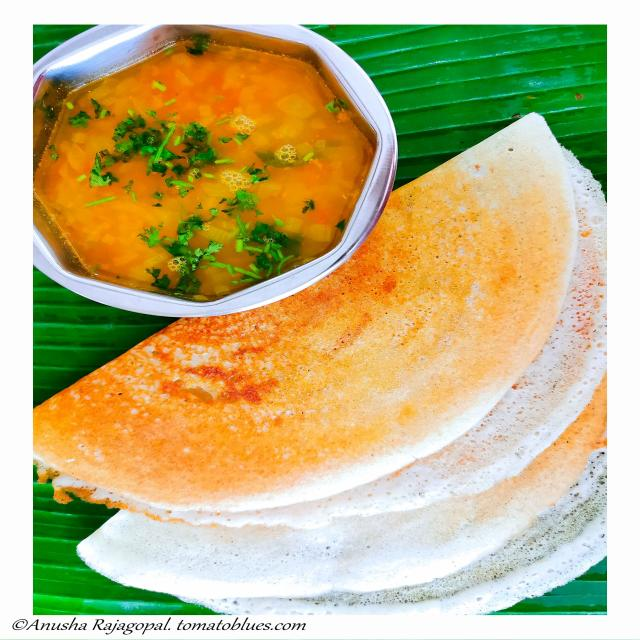Wet Waste: (35, 118, 605, 526), (80, 312, 611, 615)
